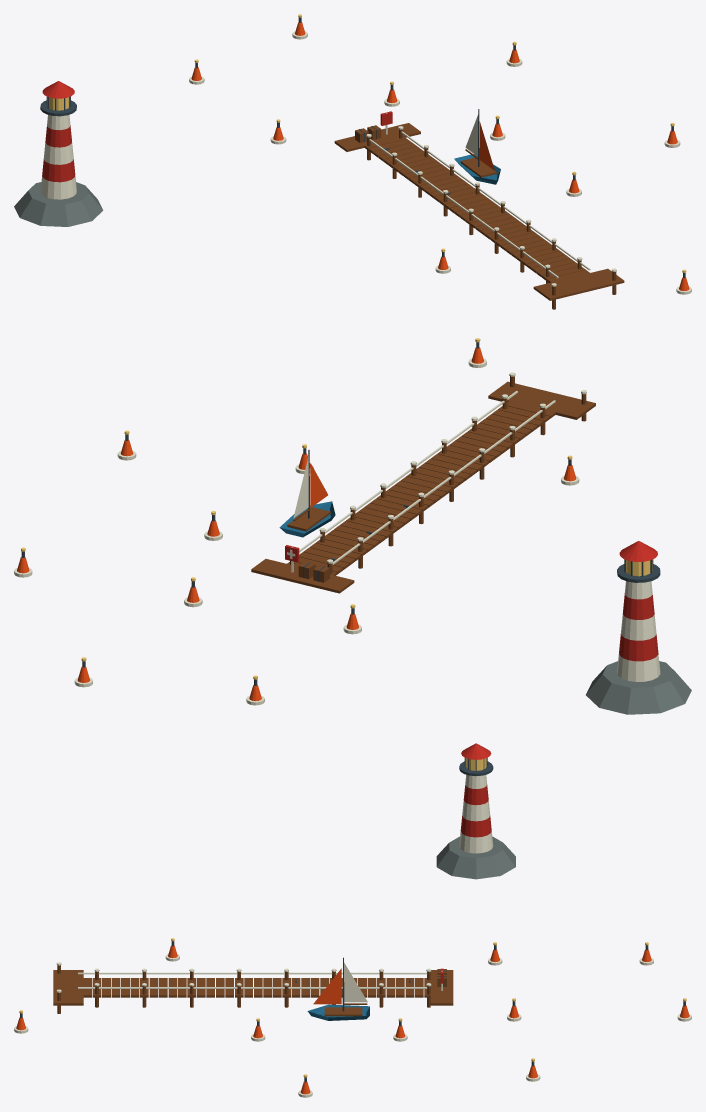
Rendered from details-isola.obj.
3 views of the same model, one above another, from view 1: azimuth 30°, elevation 25°; view 2: azimuth 150°, elevation 25°; view 3: azimuth 270°, elevation 25° (orthographic). The views are drawn at different scales.
Size of the model in its own units: 321 by 70 by 358.
